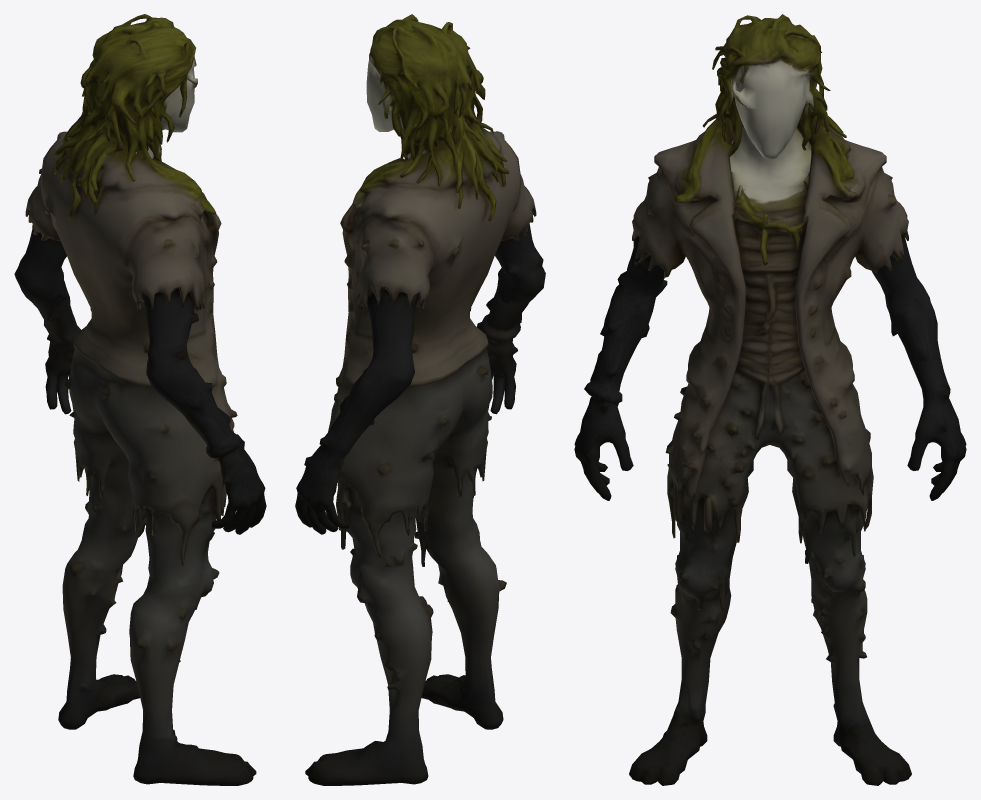
3 renders of one model, left to right at view 1: azimuth 30°, elevation 25°; view 2: azimuth 150°, elevation 25°; view 3: azimuth 270°, elevation 25°, orthographic. The views are drawn at different scales.
Visible parts, largest first — view 1: tripo_node_45f08d9d-5718-40f9-9800-e1a488660b64; view 2: tripo_node_45f08d9d-5718-40f9-9800-e1a488660b64; view 3: tripo_node_45f08d9d-5718-40f9-9800-e1a488660b64.
Boxes of the visible parts, x1,y1,x2,y2 form: tripo_node_45f08d9d-5718-40f9-9800-e1a488660b64: [14, 14, 266, 785]; tripo_node_45f08d9d-5718-40f9-9800-e1a488660b64: [295, 14, 545, 785]; tripo_node_45f08d9d-5718-40f9-9800-e1a488660b64: [574, 14, 966, 785].
Size of the model in its own units: 0.1937 by 0.9961 by 0.4795.
1 material, 1 textured.
